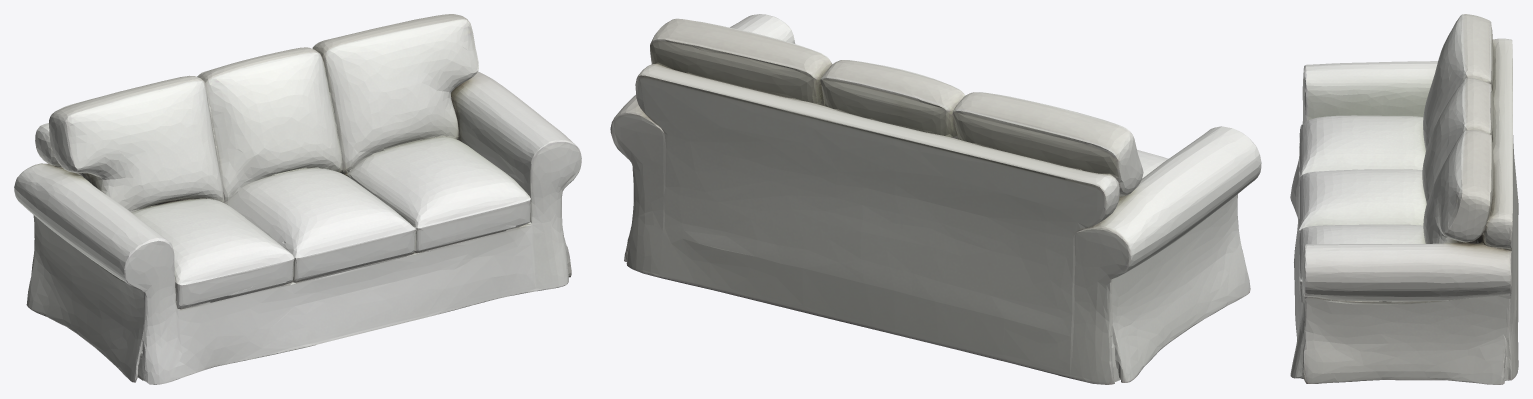
Rendered from 8ef7b378-aeda-4a47-ad9b-fbc40ec753ac.glb.
3 renders of one model, left to right at view 1: azimuth 30°, elevation 25°; view 2: azimuth 150°, elevation 25°; view 3: azimuth 270°, elevation 25°, orthographic. The views are drawn at different scales.
Parts seen in each view (by area): view 1: geometry_0; view 2: geometry_0; view 3: geometry_0.
Part boxes in pixels (box(x1,y1,x2,y2)): geometry_0: box(14, 14, 581, 384); geometry_0: box(610, 14, 1261, 384); geometry_0: box(1290, 14, 1518, 384).
Bounding box in the file's own units: 0.9991 × 0.4261 × 0.4664.
1 material, 1 textured.
